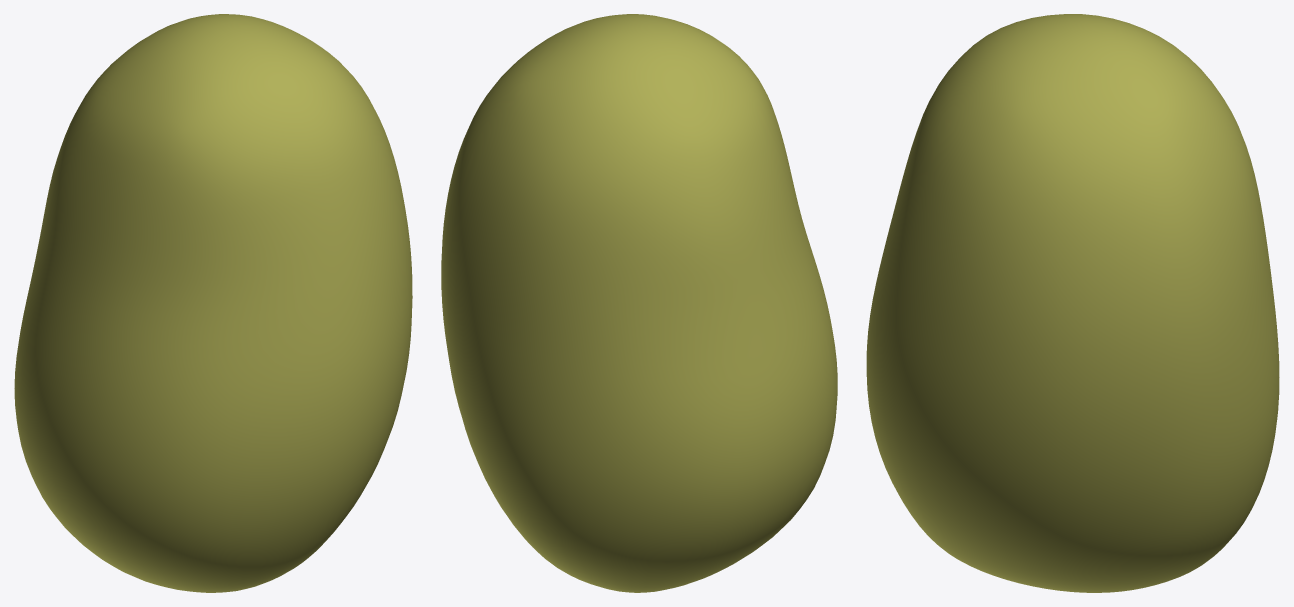
File: potato_lod1_2.fbx
3 views of the same model, side by side, from view 1: azimuth 30°, elevation 25°; view 2: azimuth 150°, elevation 25°; view 3: azimuth 270°, elevation 25° (orthographic). The views are drawn at different scales.
Parts seen in each view (by area): view 1: polySurface5; view 2: polySurface5; view 3: polySurface5.
Part boxes in pixels (box(x1,y1,x2,y2)): polySurface5: box(14, 14, 412, 592); polySurface5: box(441, 14, 837, 592); polySurface5: box(866, 14, 1279, 592).
Bounding box in the file's own units: 5.89 × 8.76 × 5.81.
